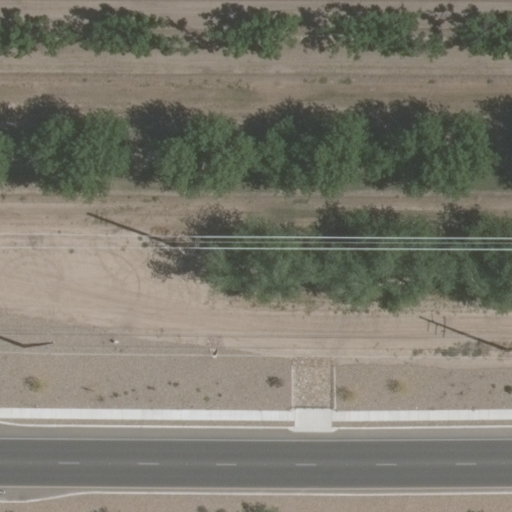DT: (146, 230, 204, 259), (15, 336, 61, 357)
